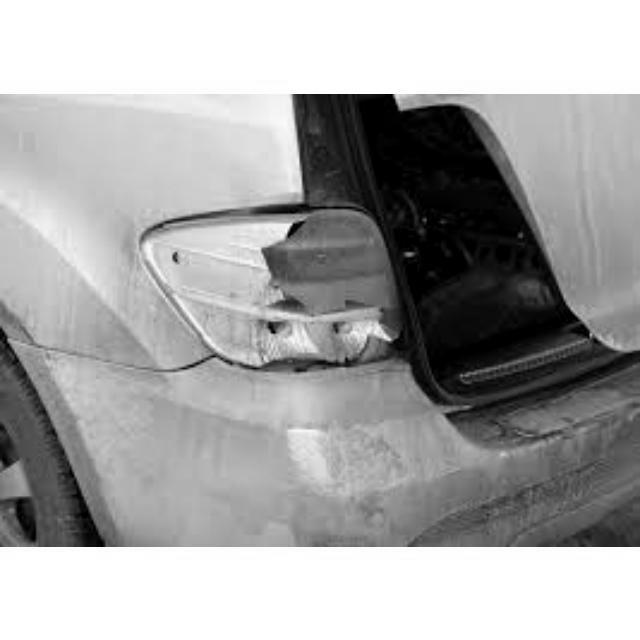Taillight-Damage: (170, 213, 384, 364)
boot-dent: (356, 94, 640, 399)
